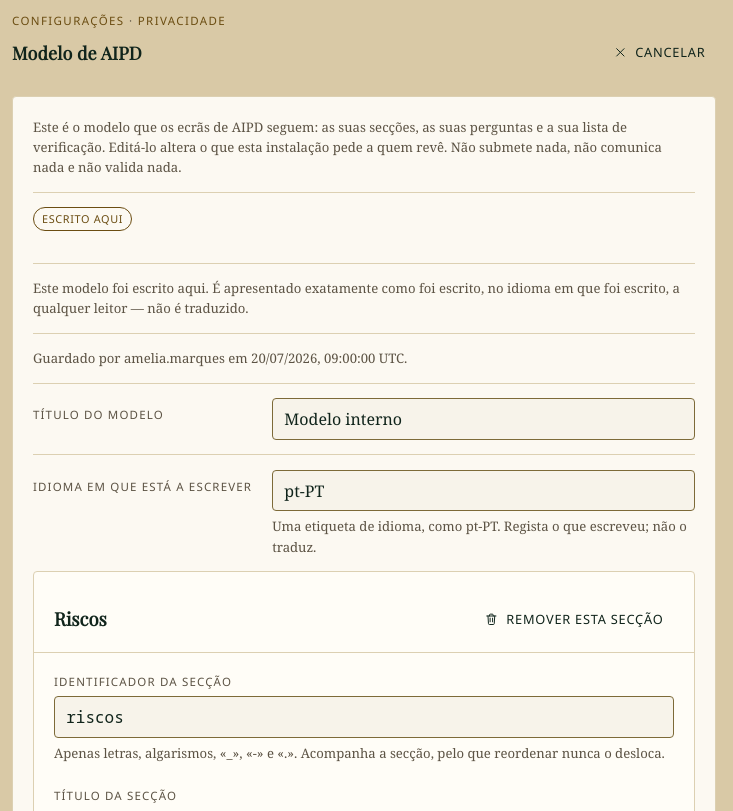
Test: DPIA model editor — sections › says so when every section has been removed, instead of showing an empty form
Click the button "Remover esta secção".
click(574, 619)  # box [474,601,674,637]
(page scrolled)
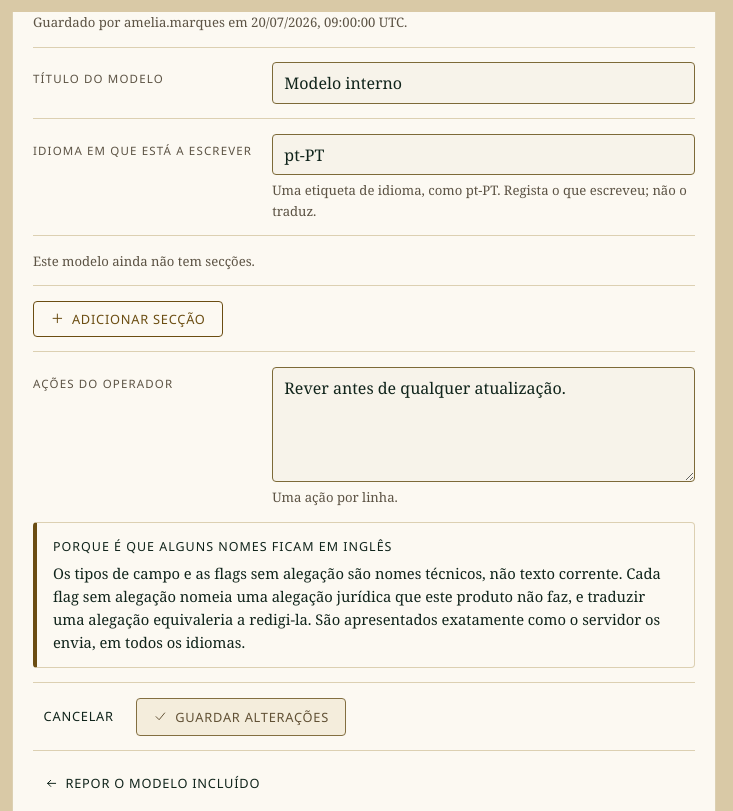
Check: the text "Este modelo ainda não tem secções." is shown, box [33,235,695,271]
Check: the button "Guardar alterações" is disabled, box [136,698,346,736]
